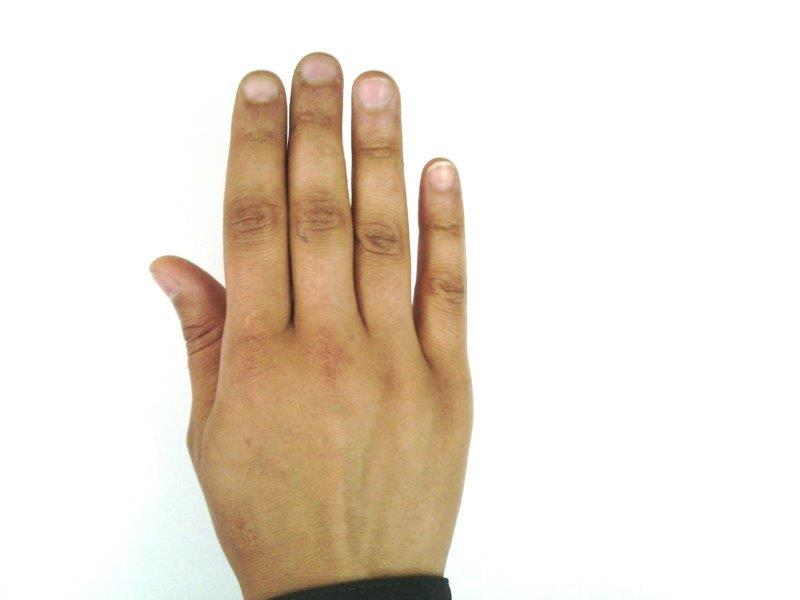hand: (152, 53, 471, 573)
